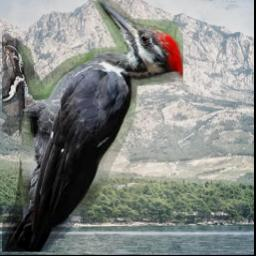Woodpecker: (2, 1, 183, 253)
